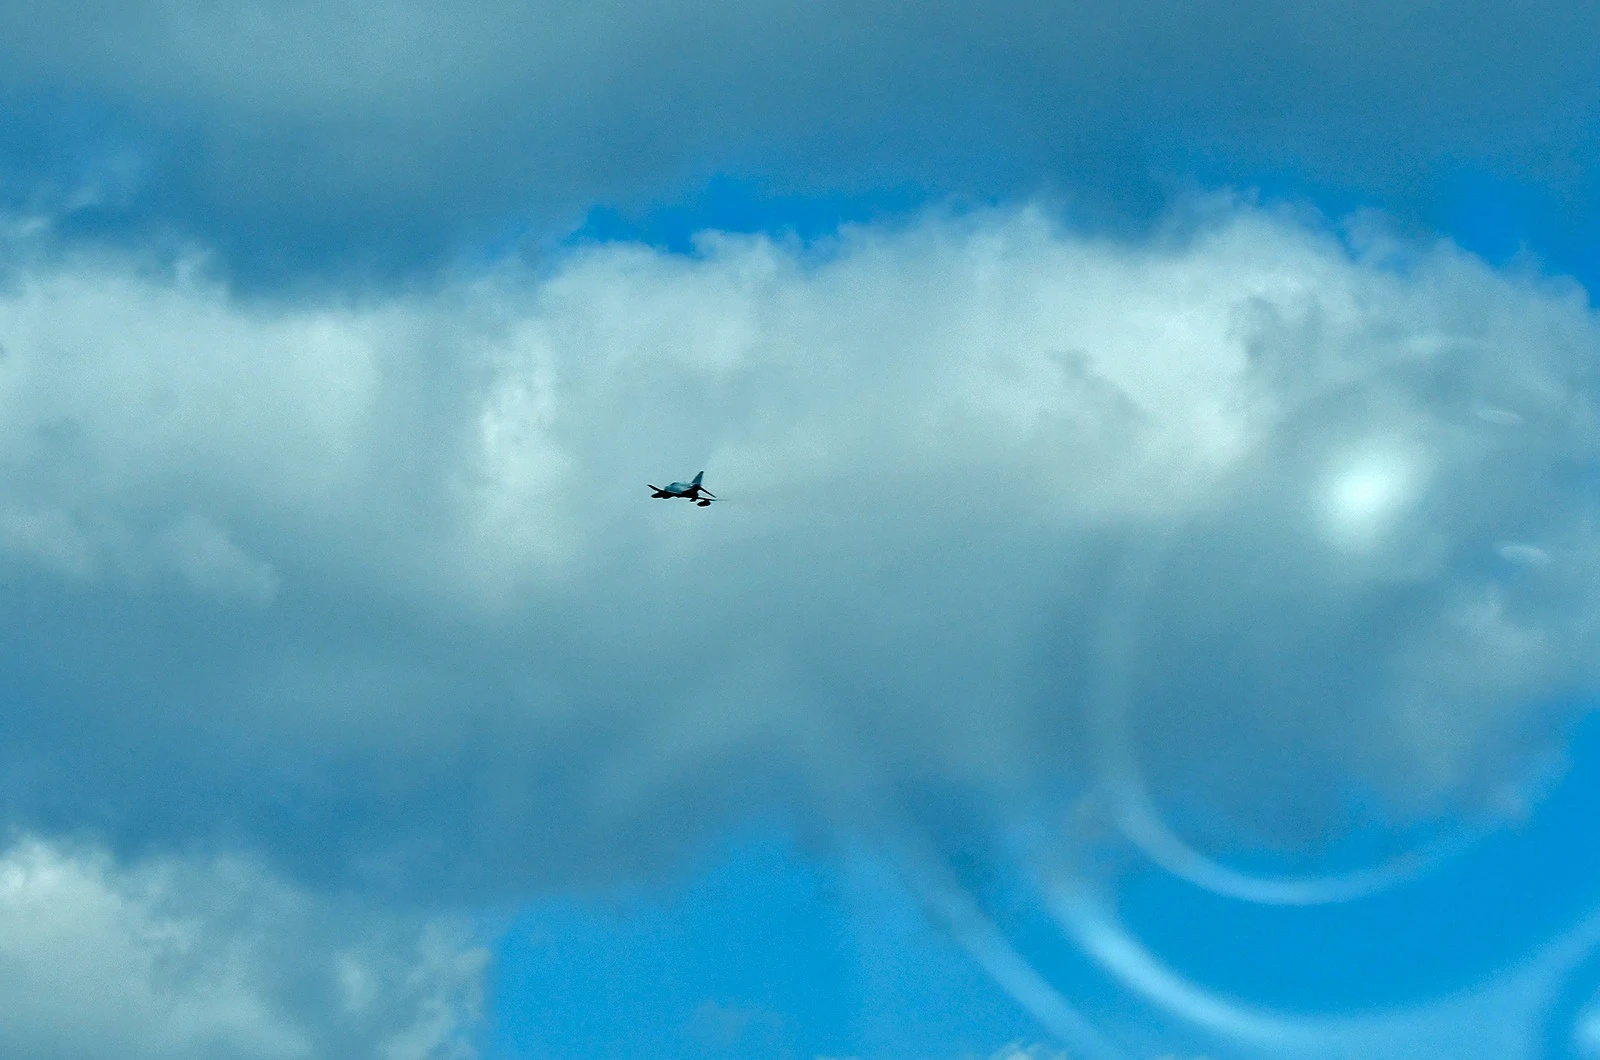F4: (646, 470, 732, 508)
